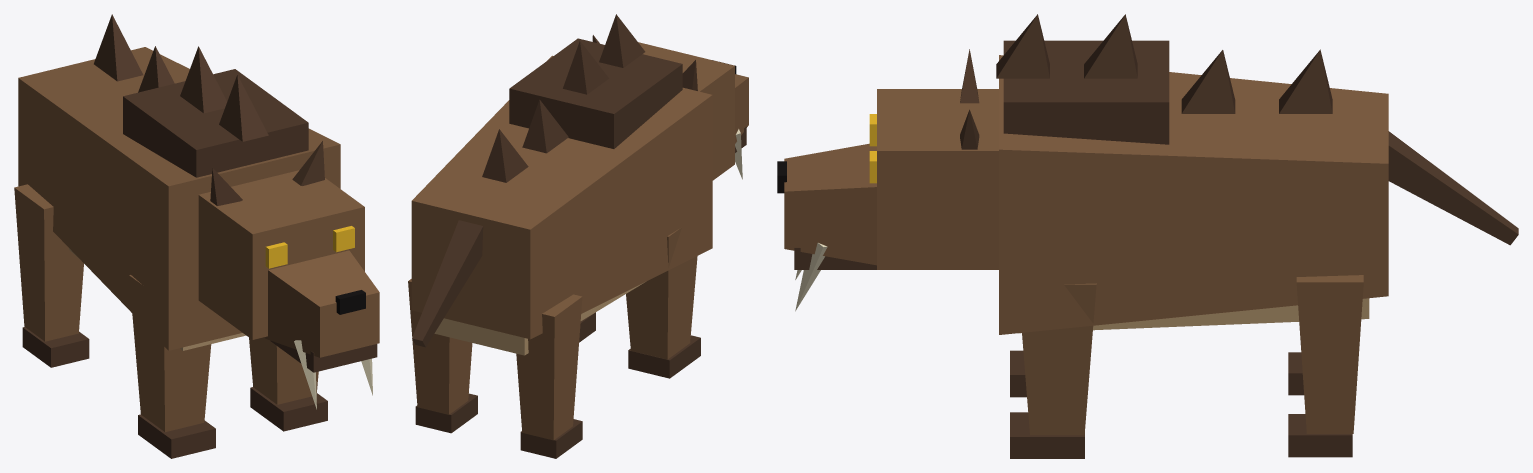
The model's file is Monster.obj.
3 renders of one model, left to right at view 1: azimuth 30°, elevation 25°; view 2: azimuth 150°, elevation 25°; view 3: azimuth 270°, elevation 25°, orthographic. The views are drawn at different scales.
Parts seen in each view (by area): view 1: Body, Head, LegBL, LegFL, LegFR; view 2: Body, LegBL, LegFL, LegBR, Head, Tail; view 3: Body, Head, LegBR, LegFR, Tail, LegFL.
Part boxes in pixels (left/top/right/bottom): Body: left=18, top=14, right=340, bottom=350; Head: left=198, top=141, right=379, bottom=409; LegBL: left=14, top=184, right=89, bottom=367; LegFL: left=129, top=275, right=215, bottom=458; LegFR: left=249, top=337, right=327, bottom=431; Body: left=411, top=14, right=712, bottom=355; LegBL: left=516, top=294, right=582, bottom=458; LegFL: left=626, top=227, right=700, bottom=378; LegBR: left=408, top=279, right=477, bottom=433; Head: left=592, top=35, right=748, bottom=180; Tail: left=412, top=220, right=483, bottom=347; Body: left=996, top=14, right=1388, bottom=334; Head: left=777, top=49, right=998, bottom=311; LegBR: left=1288, top=275, right=1363, bottom=457; LegFR: left=1010, top=283, right=1096, bottom=458; Tail: left=1388, top=131, right=1518, bottom=245; LegFL: left=1010, top=350, right=1026, bottom=397.
Bounding box in the file's own units: 0.46 × 0.91 × 1.52.
